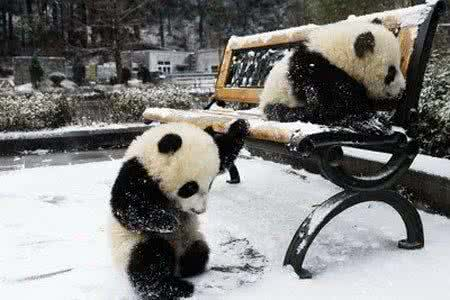panda: (106, 116, 250, 299), (254, 16, 406, 138)
